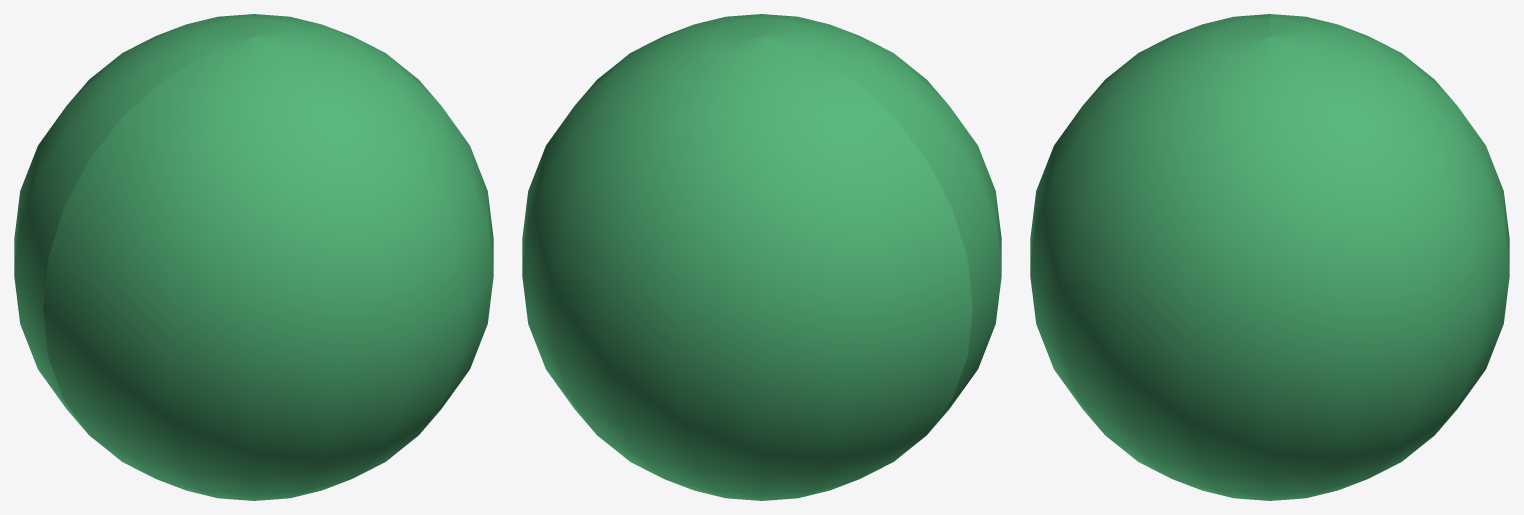
Rendered from anubias.glb.
The picture shows the model from 3 angles, left to right: view 1: azimuth 30°, elevation 25°; view 2: azimuth 150°, elevation 25°; view 3: azimuth 270°, elevation 25°; orthographic projection.
Parts seen in each view (by area): view 1: anubias; view 2: anubias; view 3: anubias.
Part boxes in pixels (x1=…): anubias: x1=14, y1=14, x2=493, y2=500; anubias: x1=522, y1=14, x2=1001, y2=500; anubias: x1=1030, y1=14, x2=1509, y2=500.
Bounding box in the file's own units: 1 × 1 × 0.9848.
